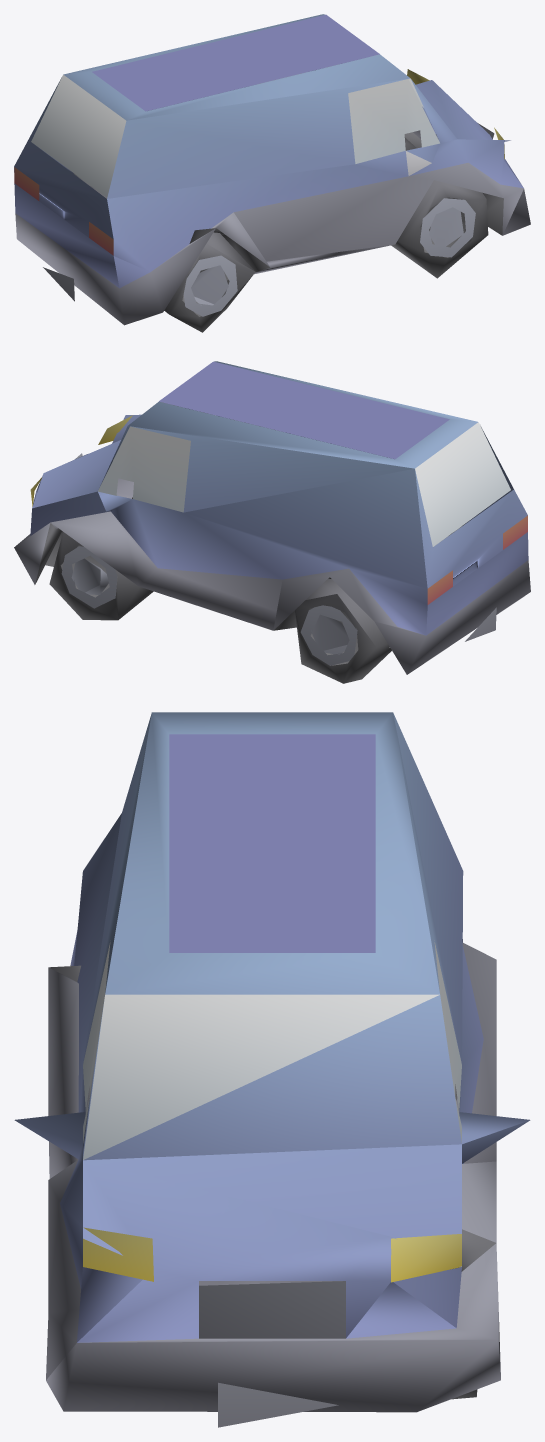
The model's file is van-lo.glb.
3 views of the same model, one above another, from view 1: azimuth 30°, elevation 25°; view 2: azimuth 150°, elevation 25°; view 3: azimuth 270°, elevation 25° (orthographic). The views are drawn at different scales.
Visible parts, largest first — view 1: wheel-front-right; view 2: wheel-front-right; view 3: wheel-front-right.
Part boxes in pixels (x1,y1,x2,y2): wheel-front-right: (14, 14, 530, 332); wheel-front-right: (14, 361, 530, 683); wheel-front-right: (14, 712, 530, 1427).
Bounding box in the file's own units: 4.53 × 2.2 × 2.51.
